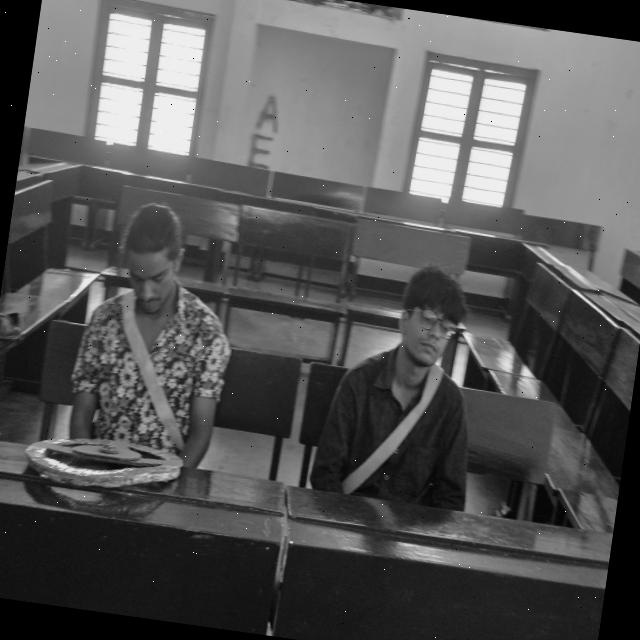seatbelt: (68, 279, 212, 473), (336, 346, 456, 514)
